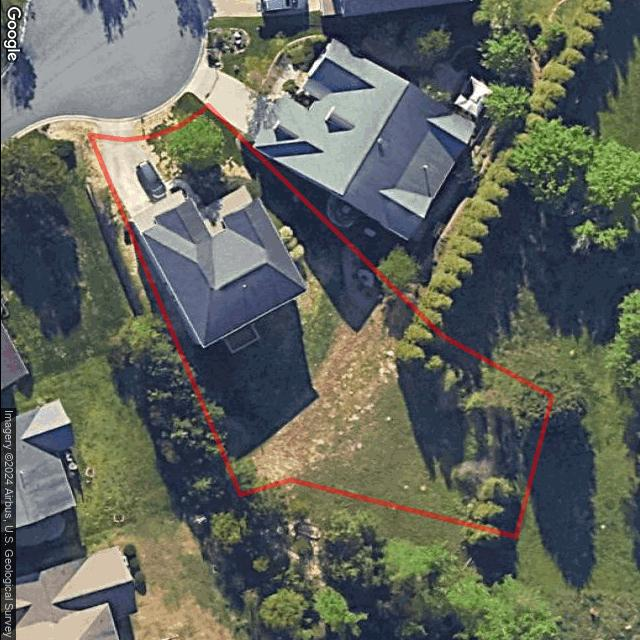Driveway: (89, 136, 186, 233)
Extra-Driveway: (82, 115, 143, 138)
Extra-Lawn: (139, 92, 204, 138)
House: (138, 197, 306, 350)
Lawn: (89, 105, 553, 536)
Other: (221, 322, 258, 355)
Sidewalk: (163, 179, 252, 238)
